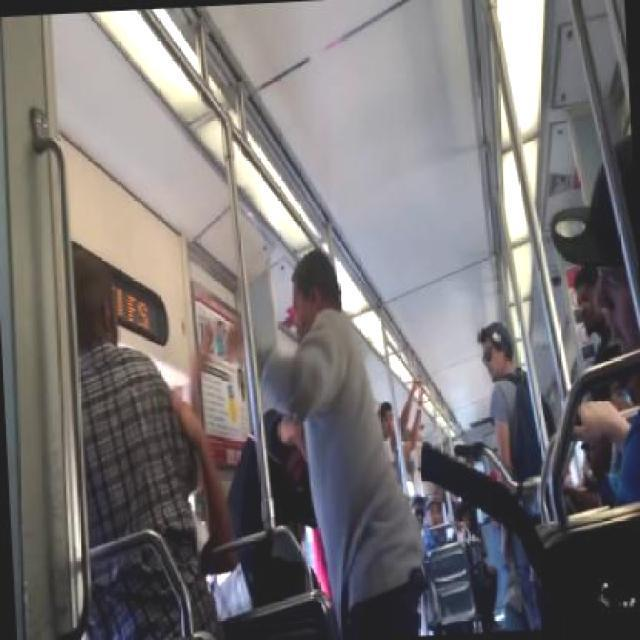fight: (192, 244, 420, 638)
non-fight: (474, 318, 557, 478)
